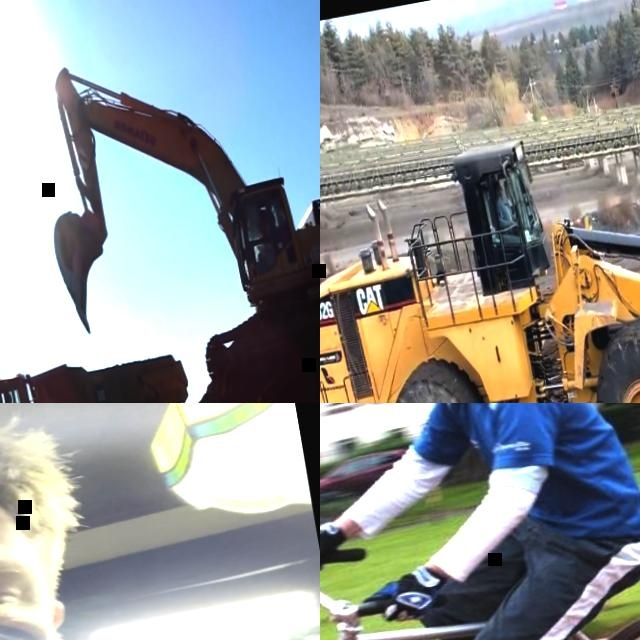NO-Hardhat: (494, 181, 503, 192)
NO-Mask: (499, 190, 505, 196)
NO-Safety Vest: (403, 403, 640, 578), (496, 197, 513, 226)
Person: (320, 403, 640, 640), (0, 403, 223, 640), (250, 215, 283, 270), (493, 180, 518, 232)
machinery: (23, 14, 320, 403), (320, 81, 640, 403), (0, 338, 208, 403)
